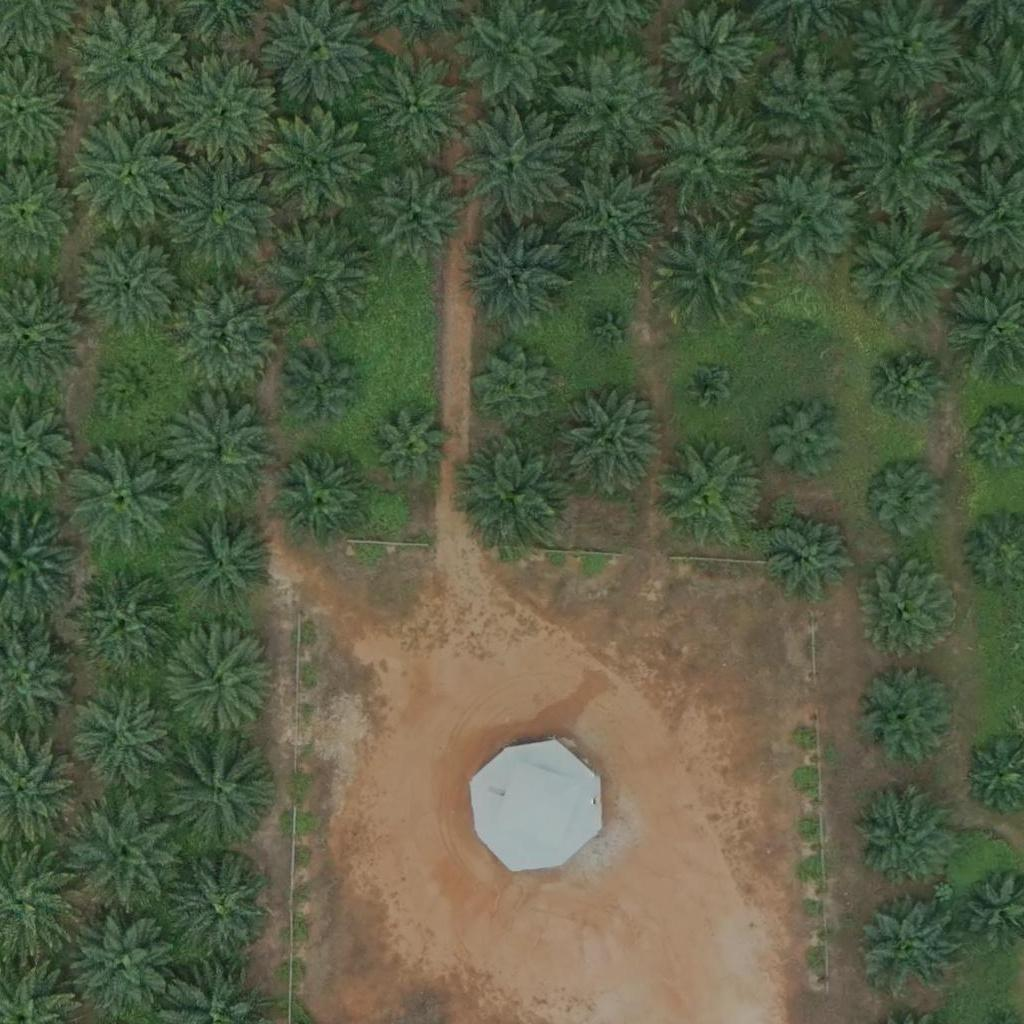Kelapa_Sawit: (843, 103, 956, 217), (168, 276, 281, 390), (74, 117, 187, 231), (848, 213, 961, 326), (750, 53, 863, 166), (458, 110, 571, 223), (461, 225, 574, 338), (356, 46, 469, 159), (172, 57, 285, 170), (166, 152, 279, 265), (77, 8, 190, 121), (66, 443, 179, 556), (63, 565, 176, 678), (162, 400, 275, 513), (166, 504, 279, 617), (166, 627, 279, 740), (161, 739, 274, 852), (461, 438, 574, 551), (69, 798, 181, 912), (653, 438, 765, 552), (652, 214, 764, 327), (755, 160, 867, 273), (650, 104, 762, 217), (550, 50, 662, 163), (554, 157, 666, 270), (267, 106, 379, 219), (266, 213, 378, 326), (554, 388, 666, 501), (66, 910, 178, 1023), (659, 1, 759, 102), (368, 166, 468, 267), (851, 785, 951, 886), (859, 896, 959, 997), (82, 234, 182, 334), (72, 685, 172, 785), (171, 858, 271, 958), (861, 559, 961, 659), (856, 666, 956, 766), (277, 456, 365, 545), (770, 511, 858, 599), (473, 346, 560, 434), (764, 396, 851, 484), (863, 346, 950, 434), (860, 455, 947, 543), (286, 356, 361, 432), (372, 407, 447, 482), (103, 359, 165, 422), (588, 304, 638, 355), (682, 360, 732, 411), (779, 297, 829, 347)
